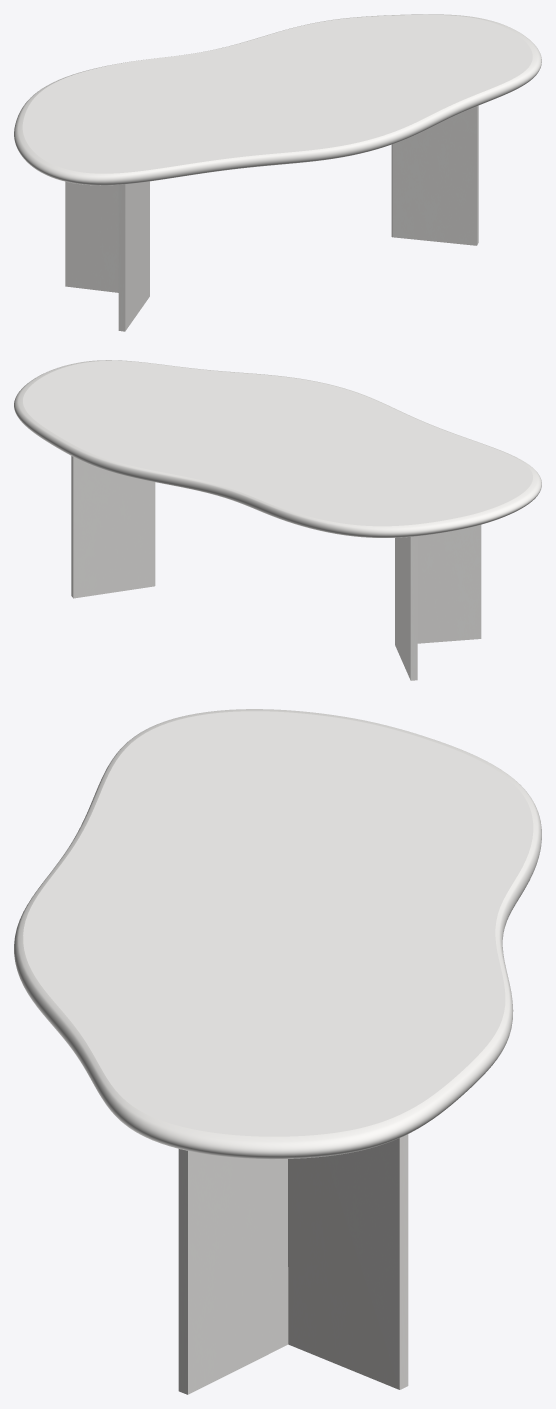
The model's file is purewhite_toplast_round_valleyv.glb.
3 views of the same model, one above another, from view 1: azimuth 30°, elevation 25°; view 2: azimuth 150°, elevation 25°; view 3: azimuth 270°, elevation 25° (orthographic). The views are drawn at different scales.
Visible parts, largest first — view 1: round_toplast, valleyv; view 2: round_toplast, valleyv; view 3: round_toplast, valleyv.
Part boxes in pixels (<box>): round_toplast: <box>14,14,541,185</box>; valleyv: <box>65,105,478,331</box>; round_toplast: <box>14,360,541,537</box>; valleyv: <box>71,456,481,680</box>; round_toplast: <box>14,709,541,1159</box>; valleyv: <box>178,1134,408,1394</box>.
Size of the model in its own units: 7.5 by 2.5 by 3.8.
Materials: 1 (1 with a texture image).
